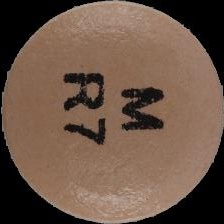60429-232: (0, 0, 224, 224)
